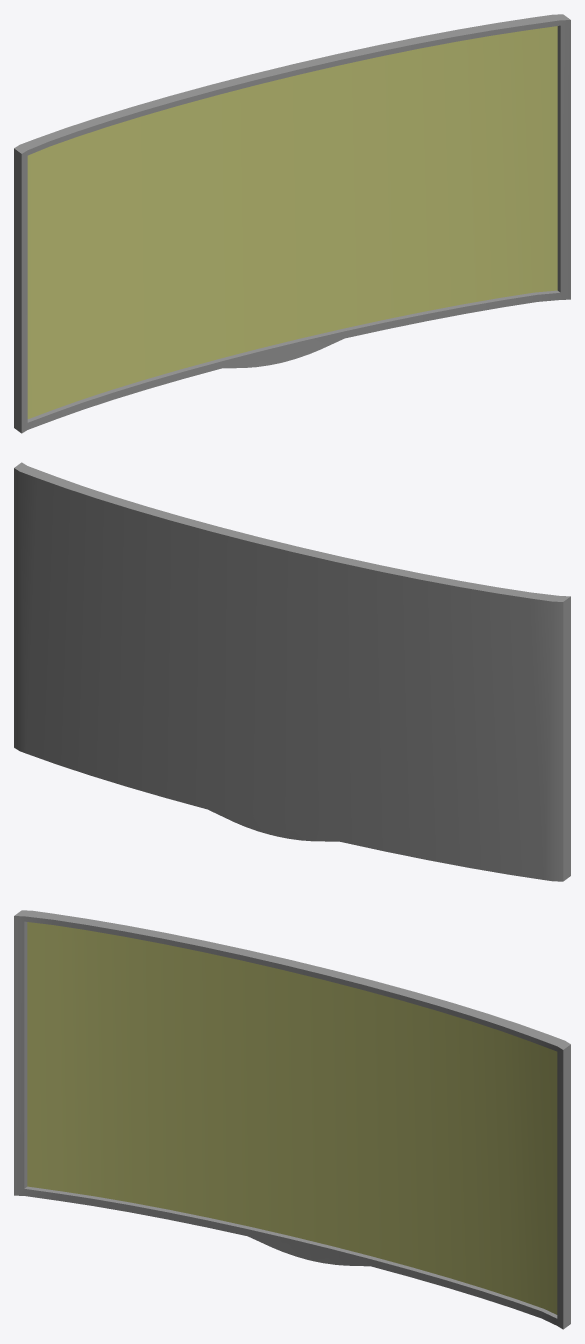
Rendered from television.fbx.
3 views of the same model, one above another, from view 1: azimuth 30°, elevation 25°; view 2: azimuth 150°, elevation 25°; view 3: azimuth 330°, elevation 25° (orthographic).
Visible parts, largest first — view 1: Cube.010; view 2: Cube.010; view 3: Cube.010.
Boxes of the visible parts, bbox=[...] form: Cube.010: bbox=[14, 14, 570, 433]; Cube.010: bbox=[14, 462, 570, 881]; Cube.010: bbox=[14, 910, 570, 1329].
Bounding box in the file's own units: 1167 × 587 × 89.05.
